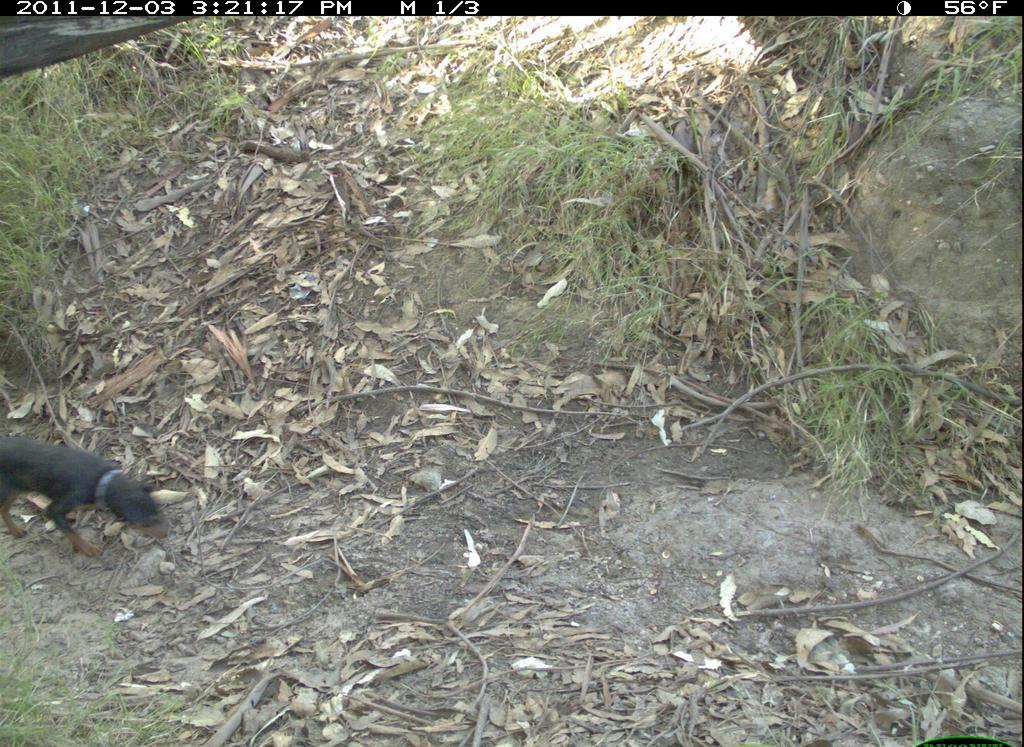dog: (4, 418, 232, 578)
